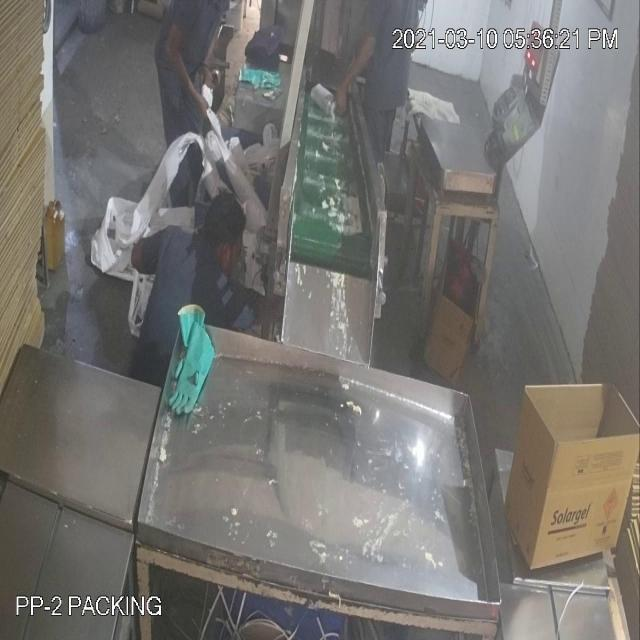No_Gloves: (55, 74, 355, 113)
